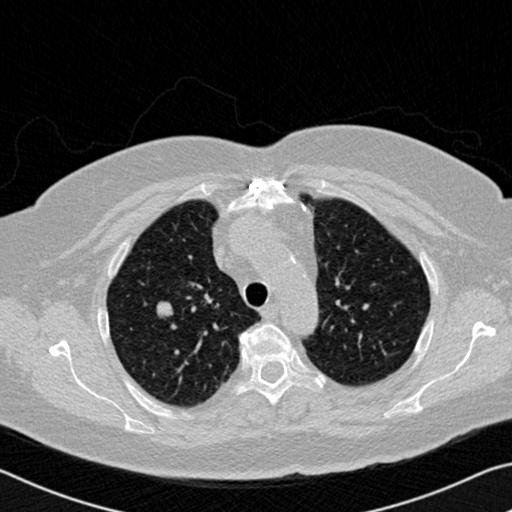nodule: (152, 298, 175, 321)
